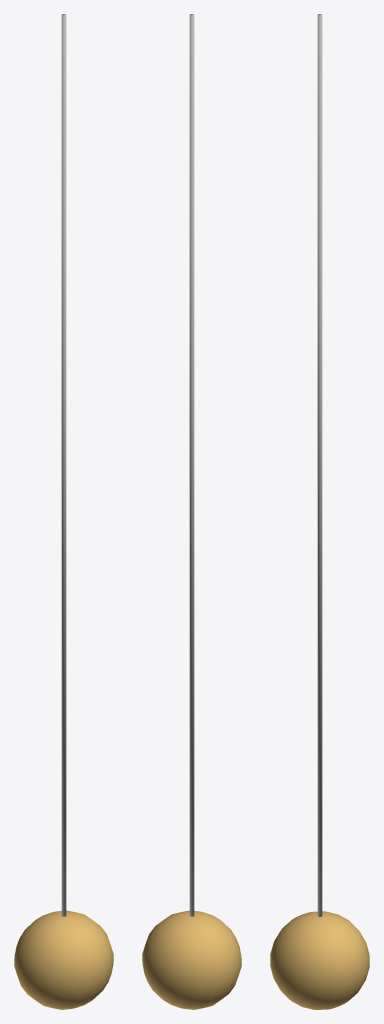
File: pendulum_snake_p5.glb
3 renders of one model, left to right at view 1: azimuth 30°, elevation 25°; view 2: azimuth 150°, elevation 25°; view 3: azimuth 330°, elevation 25°, orthographic.
Parts seen in each view (by area): view 1: Sphere5.001, Pendulum5.001; view 2: Sphere5.001, Pendulum5.001; view 3: Sphere5.001, Pendulum5.001.
Part boxes in pixels (x1=…): Sphere5.001: x1=14, y1=910, x2=113, y2=1009; Pendulum5.001: x1=61, y1=14, x2=66, y2=916; Sphere5.001: x1=142, y1=910, x2=241, y2=1009; Pendulum5.001: x1=189, y1=14, x2=194, y2=916; Sphere5.001: x1=270, y1=911, x2=369, y2=1009; Pendulum5.001: x1=317, y1=14, x2=322, y2=916.
Bounding box in the file's own units: 0.0399 × 0.4408 × 0.04.
